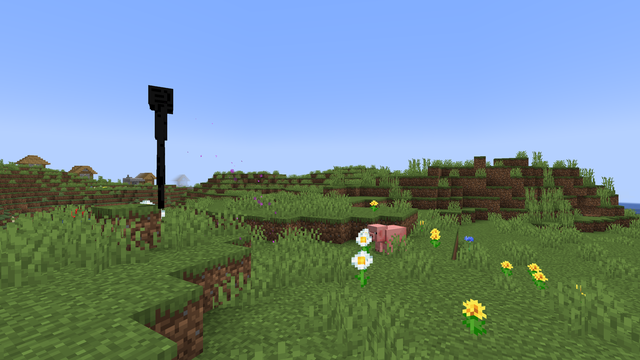cochons: (374, 223, 404, 255)
endermens: (141, 80, 180, 206)
